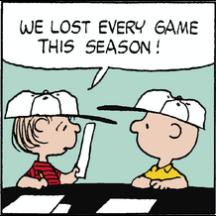charlie: (130, 88, 206, 190)
